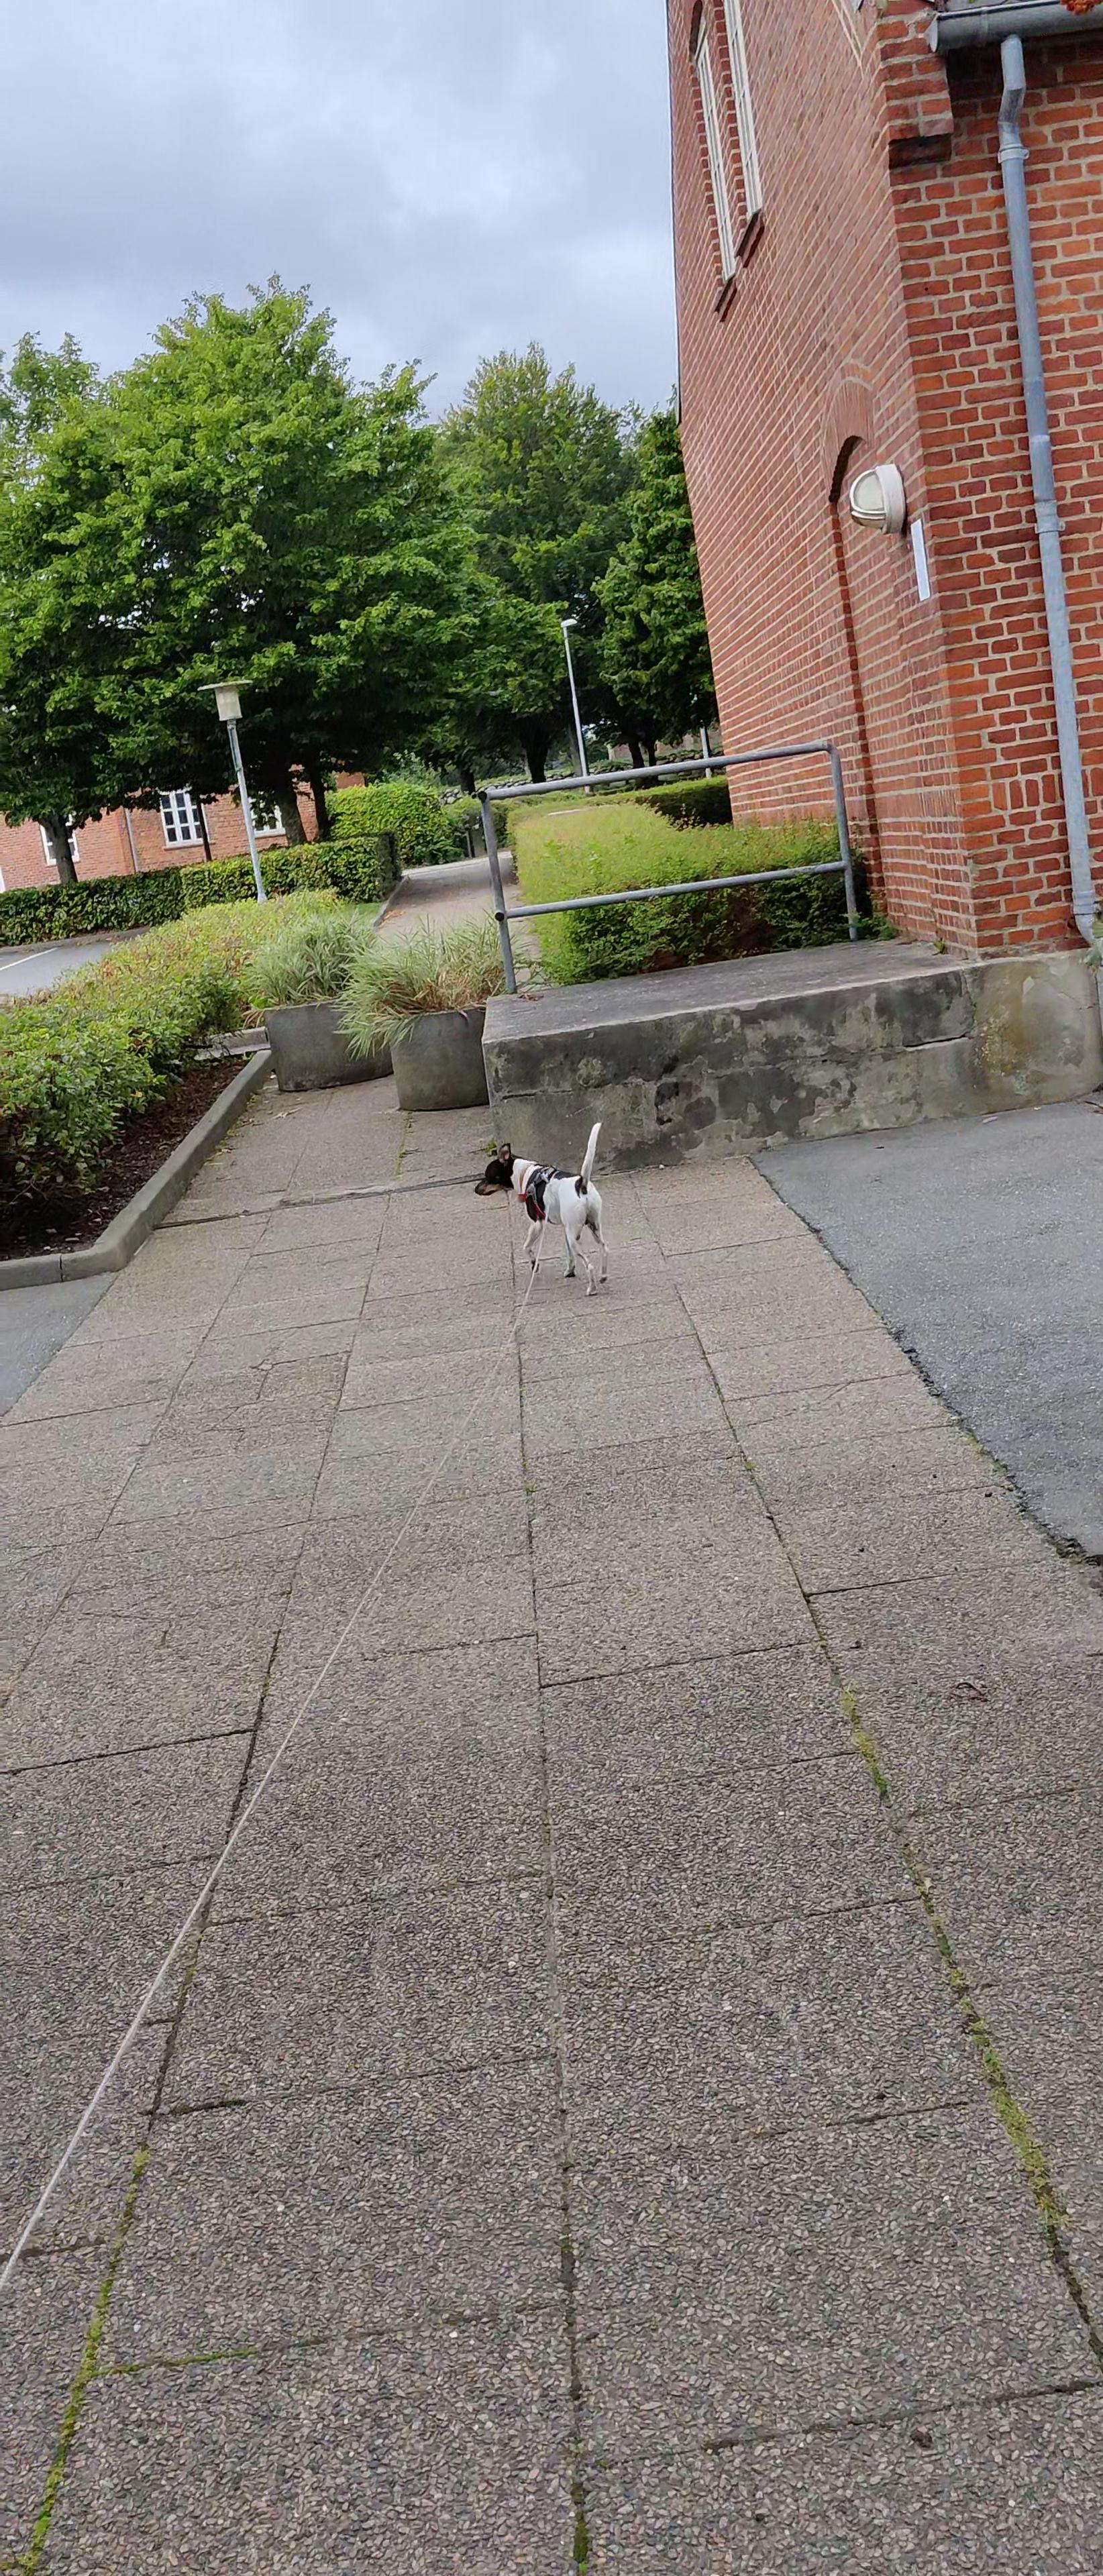Dog: (465, 1107, 616, 1306)
